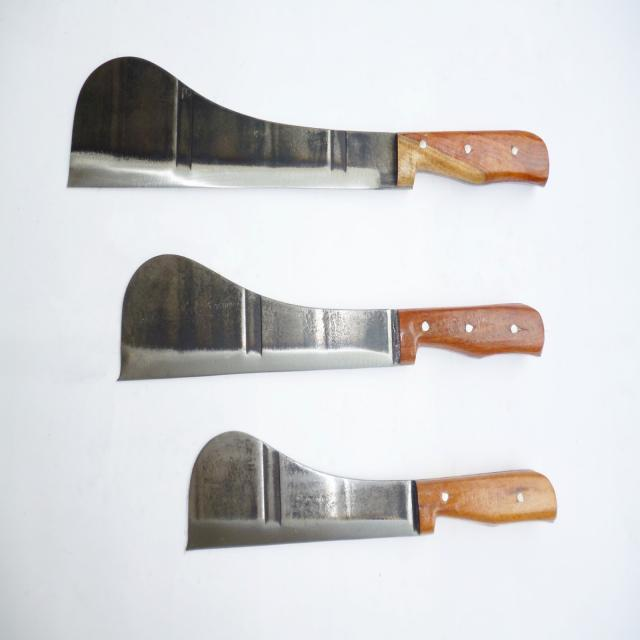eto: (64, 51, 552, 194), (107, 246, 554, 385), (175, 420, 564, 562)
